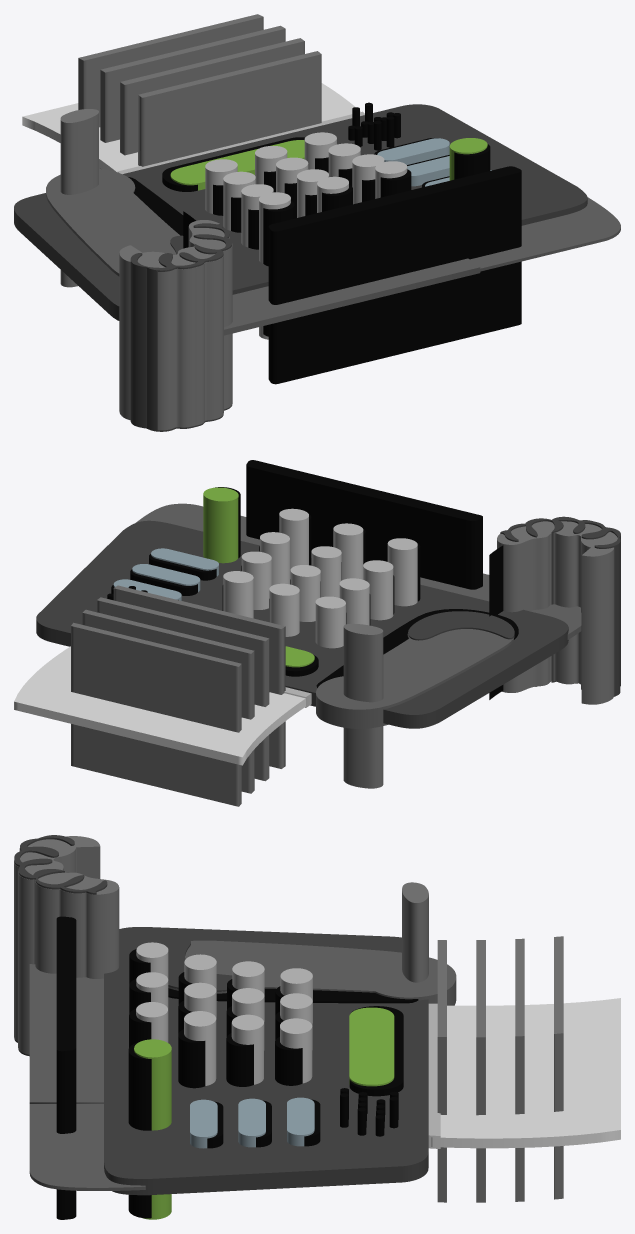
File: emoji_u1f4e0.glb
3 views of the same model, one above another, from view 1: azimuth 30°, elevation 25°; view 2: azimuth 150°, elevation 25°; view 3: azimuth 270°, elevation 25° (orthographic). The views are drawn at different scales.
Visible parts, largest first — view 1: emoji_u1f4e0; view 2: emoji_u1f4e0; view 3: emoji_u1f4e0.
Part boxes in pixels (left/top/right/bottom): emoji_u1f4e0: left=14, top=14, right=620, bottom=431; emoji_u1f4e0: left=14, top=460, right=620, bottom=806; emoji_u1f4e0: left=14, top=835, right=620, bottom=1219.
Bounding box in the file's own units: 0.0352 × 0.0112 × 0.0339.
